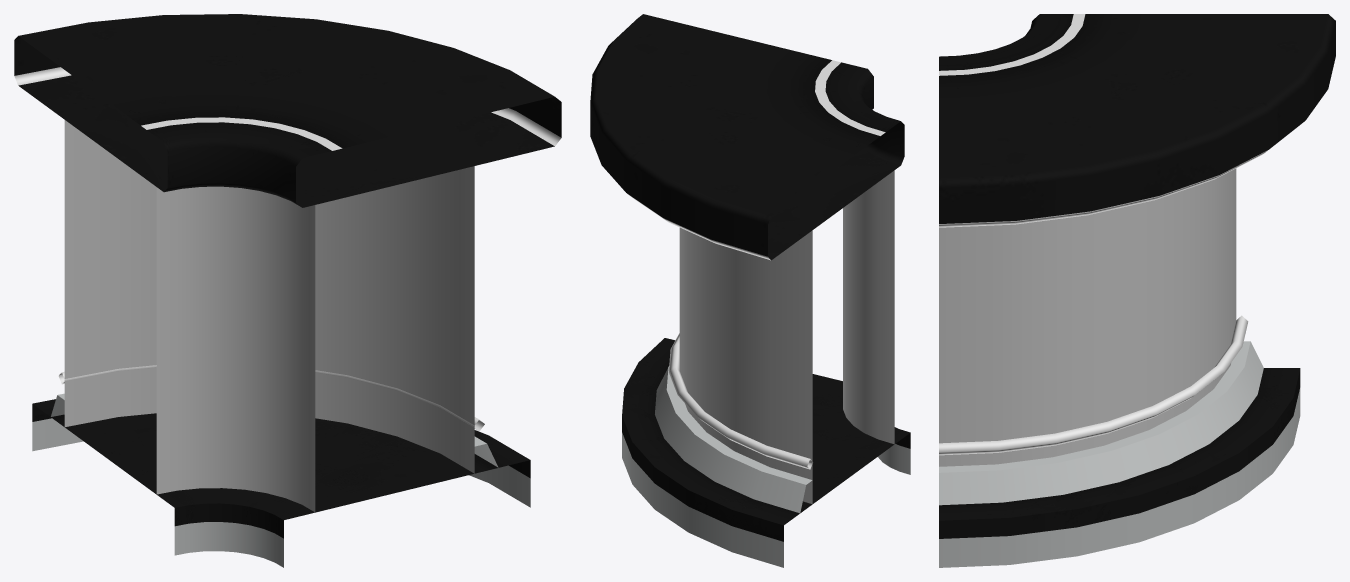
The model's file is Mesh_Bar_Corner_90d.fbx.
3 views of the same model, side by side, from view 1: azimuth 30°, elevation 25°; view 2: azimuth 150°, elevation 25°; view 3: azimuth 270°, elevation 25° (orthographic). The views are drawn at different scales.
Visible parts, largest first — view 1: Bar_Corner_90d; view 2: Bar_Corner_90d; view 3: Bar_Corner_90d.
Part boxes in pixels (x1=…): Bar_Corner_90d: x1=14, y1=14, x2=561, y2=567; Bar_Corner_90d: x1=590, y1=14, x2=910, y2=567; Bar_Corner_90d: x1=939, y1=14, x2=1335, y2=567.
Size of the model in its own units: 1.14 by 1.27 by 1.14.
